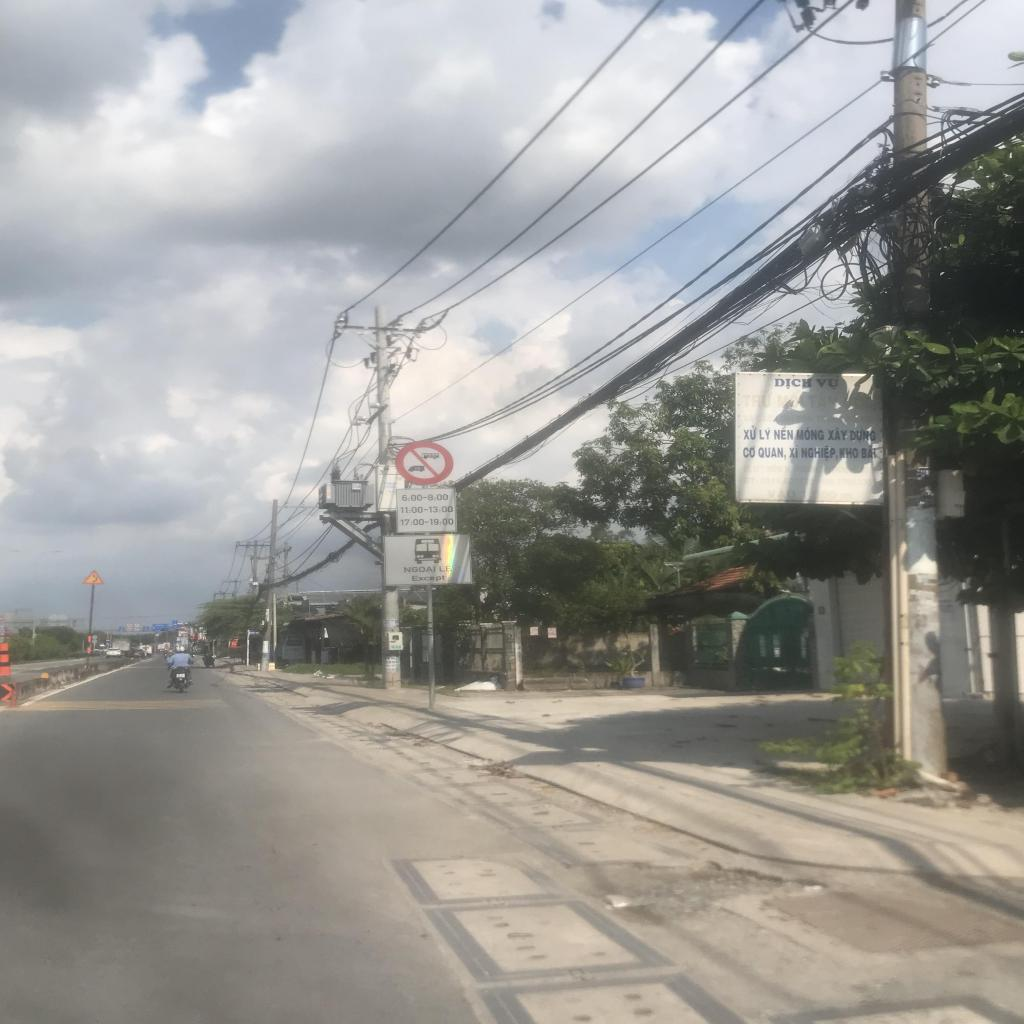cam_o_to_tai_va_xe_khach: (396, 442, 454, 484)
khac: (383, 534, 471, 586), (396, 488, 457, 532), (82, 569, 106, 584)
